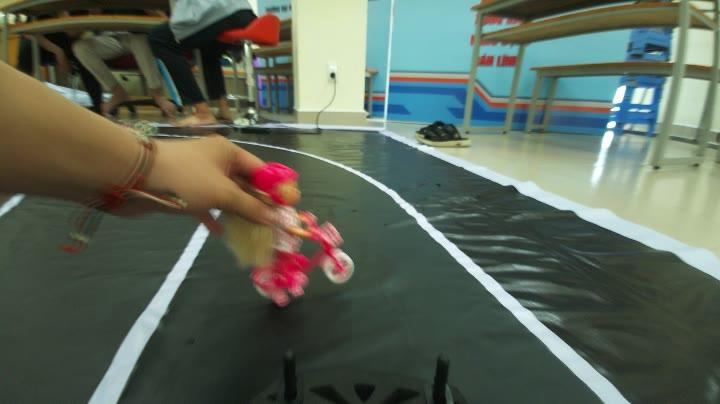pedestrian: (247, 168, 355, 302)
